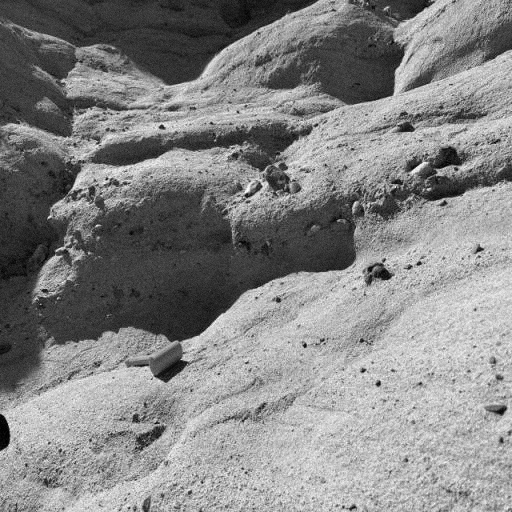mallet: (125, 340, 184, 376)
